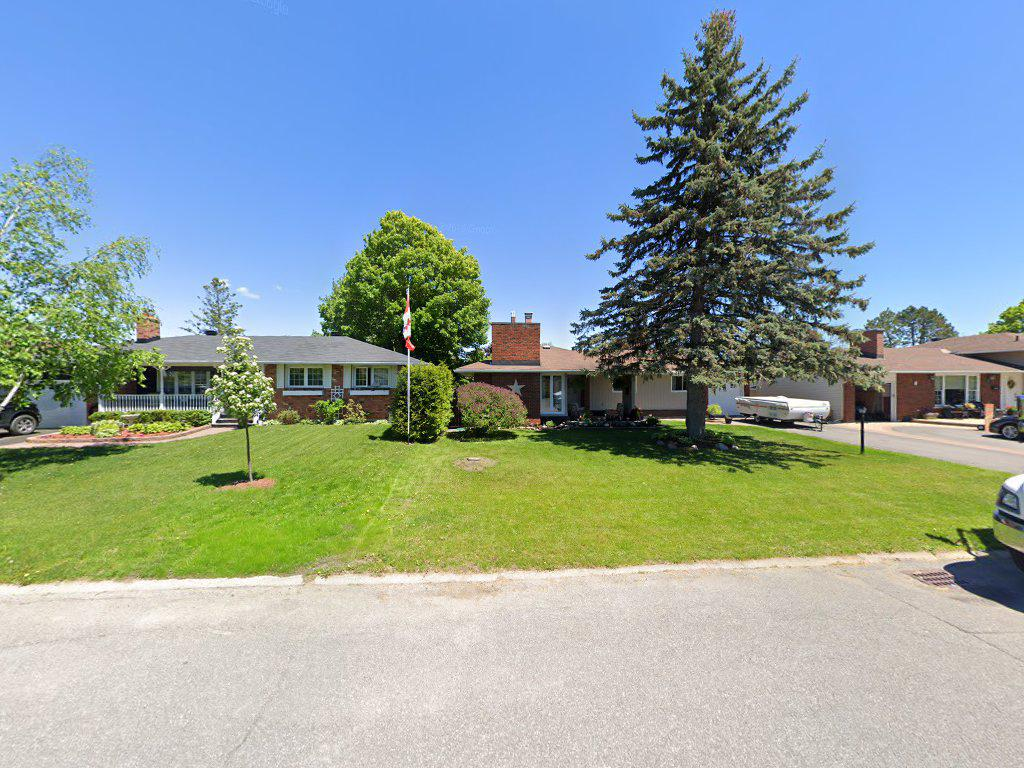trunk: (687, 365, 712, 463)
